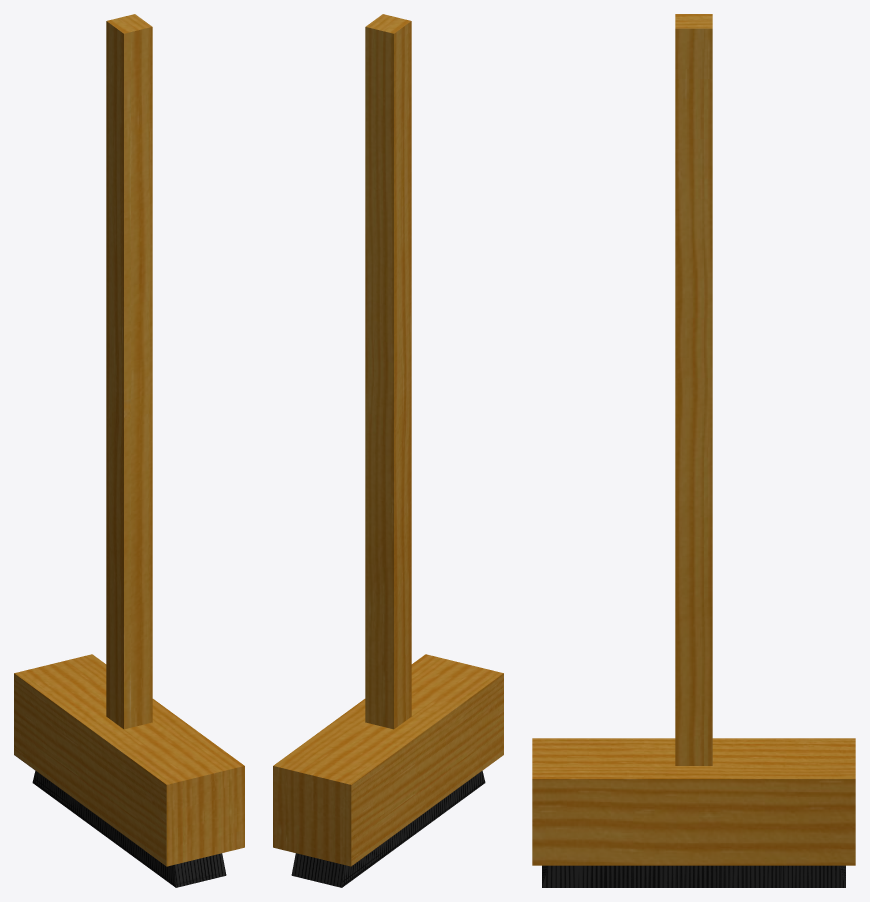
Rendered from broom.gltf.
3 views of the same model, side by side, from view 1: azimuth 30°, elevation 25°; view 2: azimuth 150°, elevation 25°; view 3: azimuth 270°, elevation 25° (orthographic). The views are drawn at different scales.
Visible parts, largest first — view 1: broom; view 2: broom; view 3: broom.
Boxes of the visible parts, bbox=[...] form: broom: bbox=[14, 14, 244, 887]; broom: bbox=[273, 14, 503, 887]; broom: bbox=[532, 14, 855, 887].
Size of the model in its own units: 0.2199 by 2.17 by 0.7437.
Materials: 1 (1 with a texture image).
